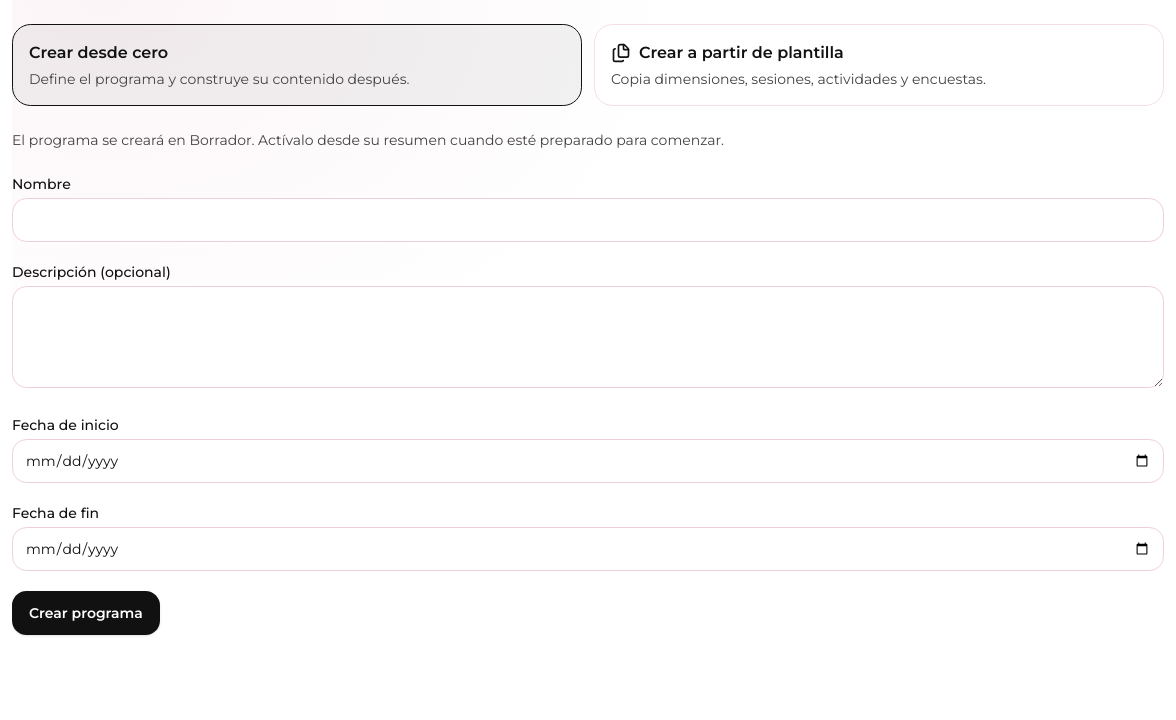
Test: blocks retry on uncertain result and never claims successful creation
This screenshot has width=1176, height=720.
Type "Programa real" into the field labelled "Nombre" at (588, 220), box [12,198,1164,242]
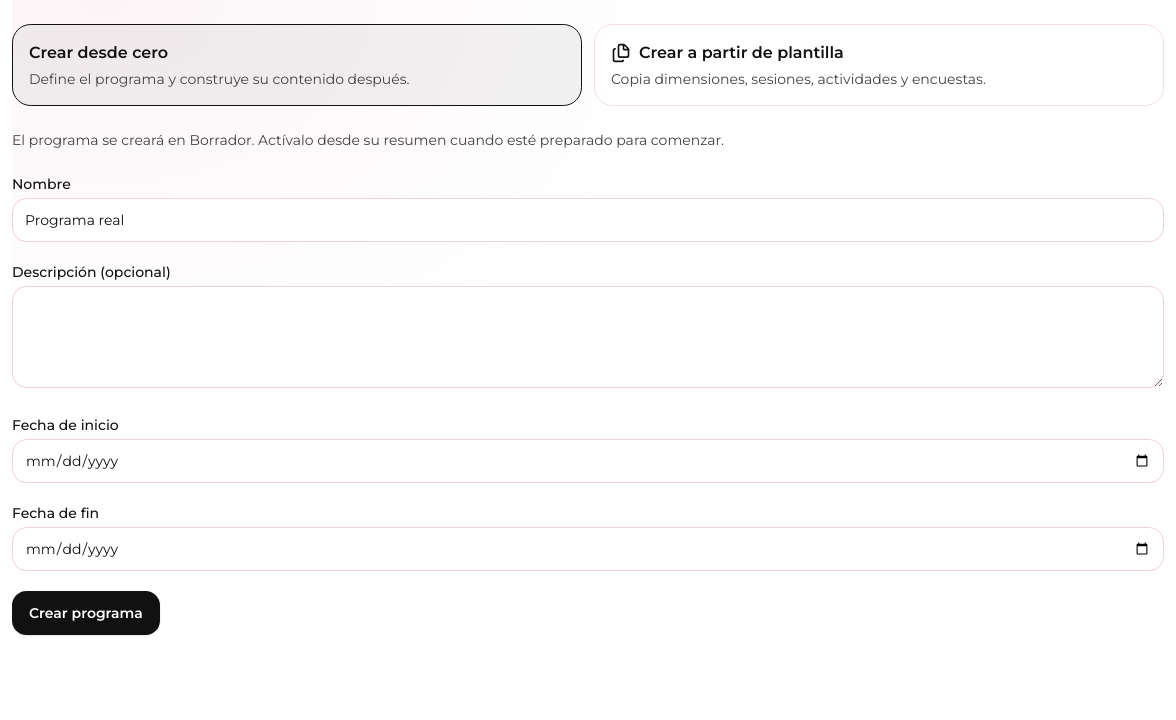
Type "2026-09-01" into the date field labelled "Fecha de inicio" at (588, 461), box [12,439,1164,483]
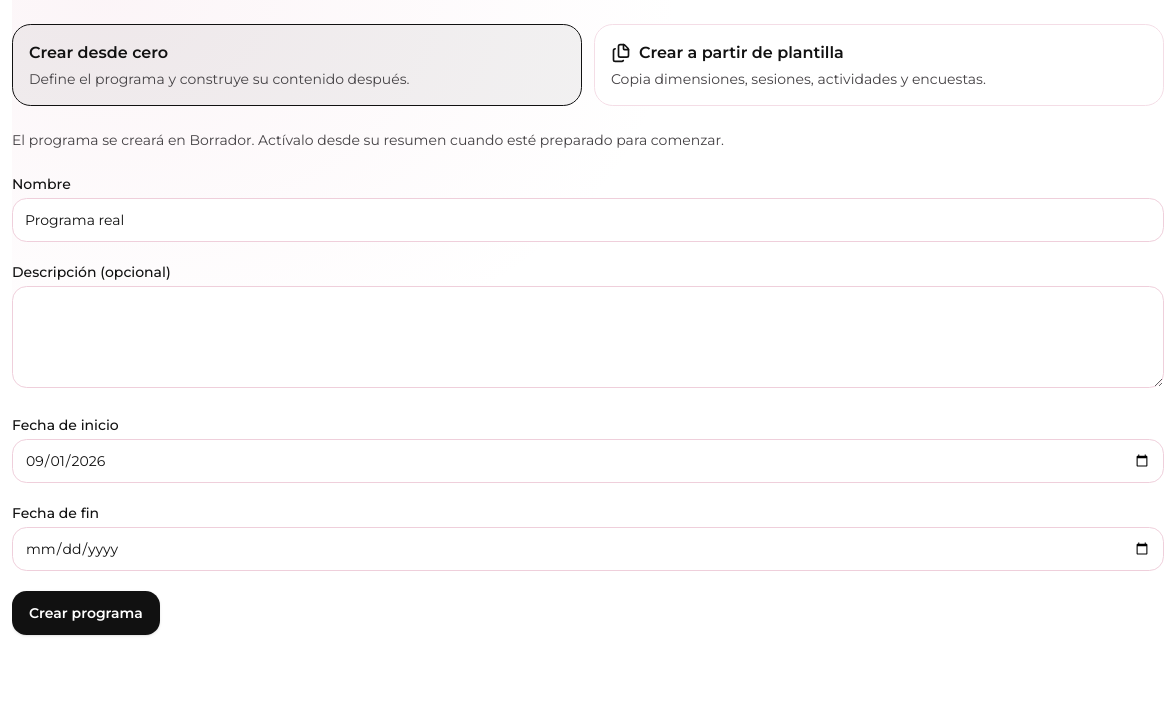
Type "2026-12-01" into the date field labelled "Fecha de fin" at (588, 549), box [12,527,1164,571]
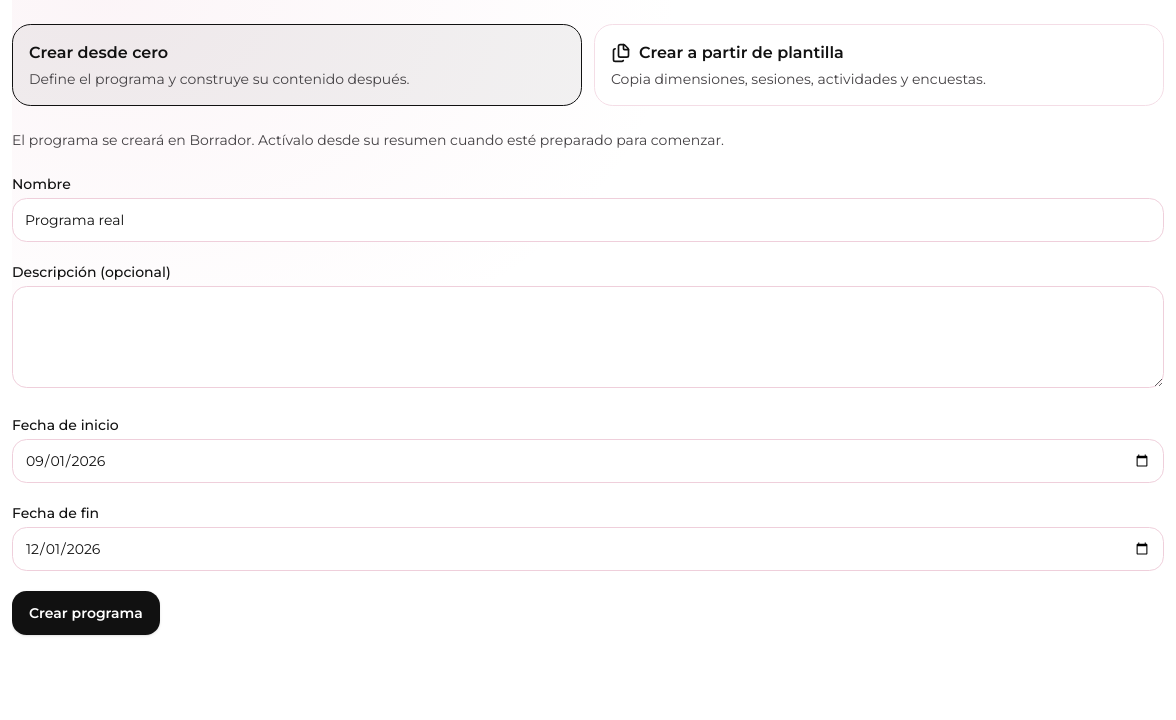
Submit the form
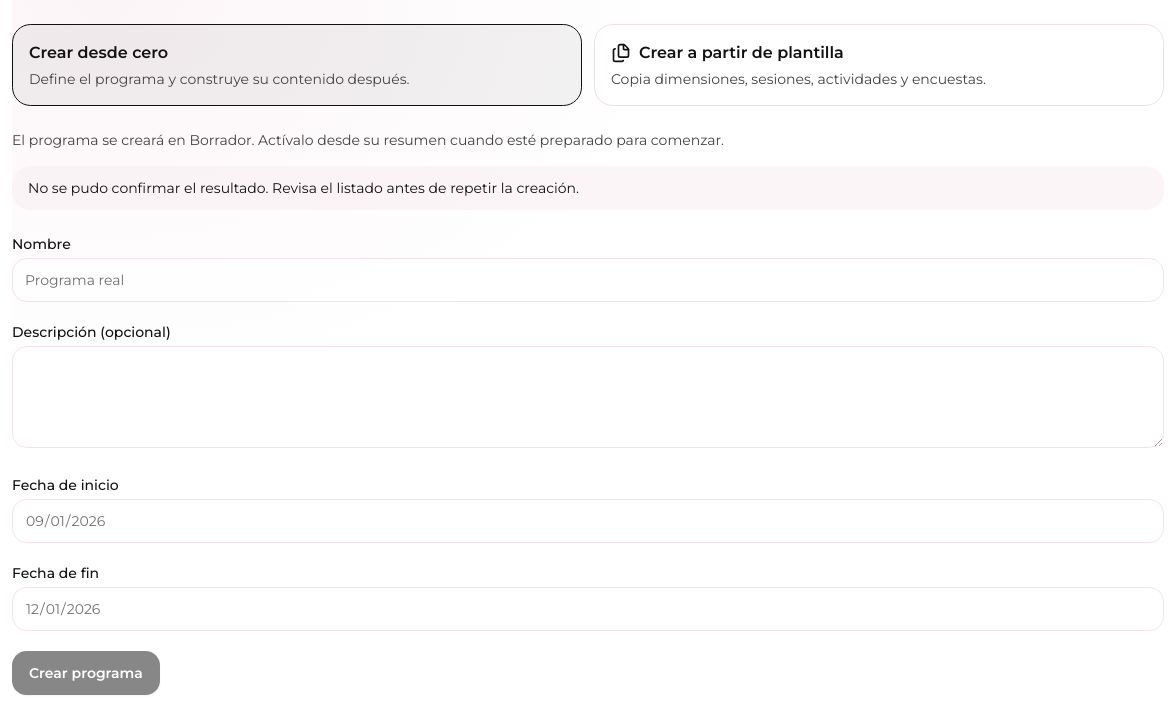
Expected: the text "Revisa el listado antes de repetir" is shown, [28,179,579,197]
Expected: the button "Crear programa" is disabled, [12,651,160,695]
